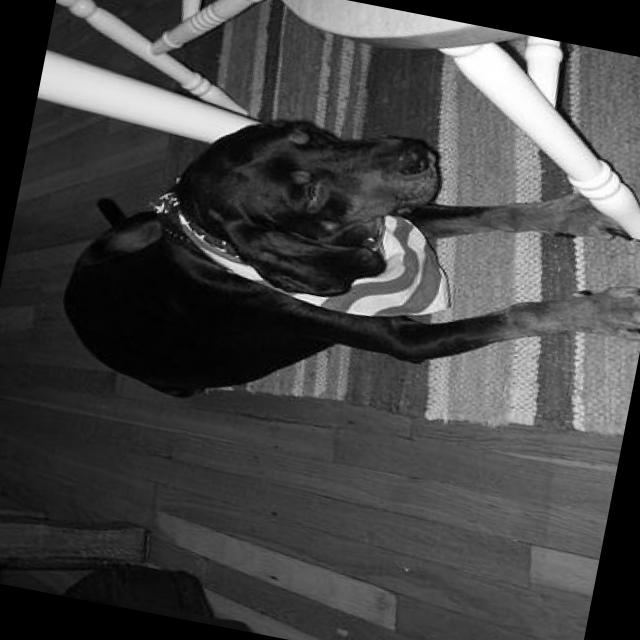laying down: (35, 72, 640, 491)
